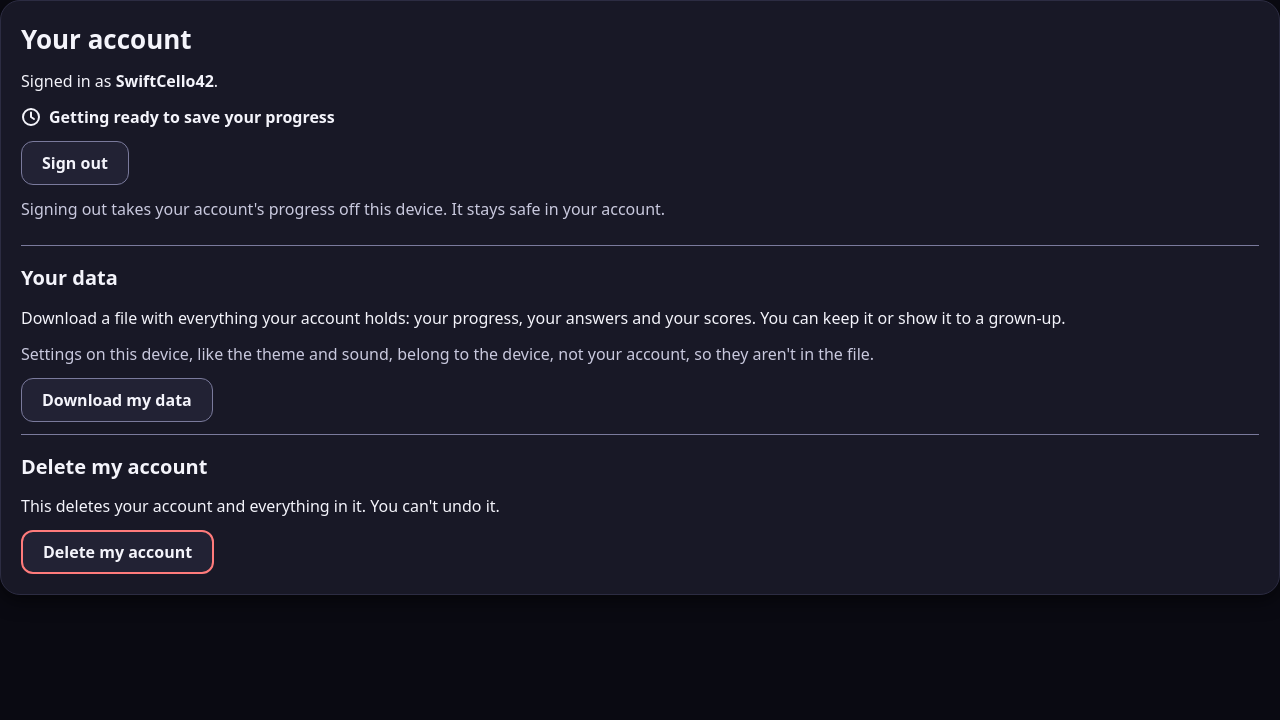
Download my data › downloads a file named by the day, and announces it
Check: the text "SwiftCello42" is shown, box [116,70,214,92]
Click the button "Download my data".
click(117, 400)  # box [21,378,213,422]
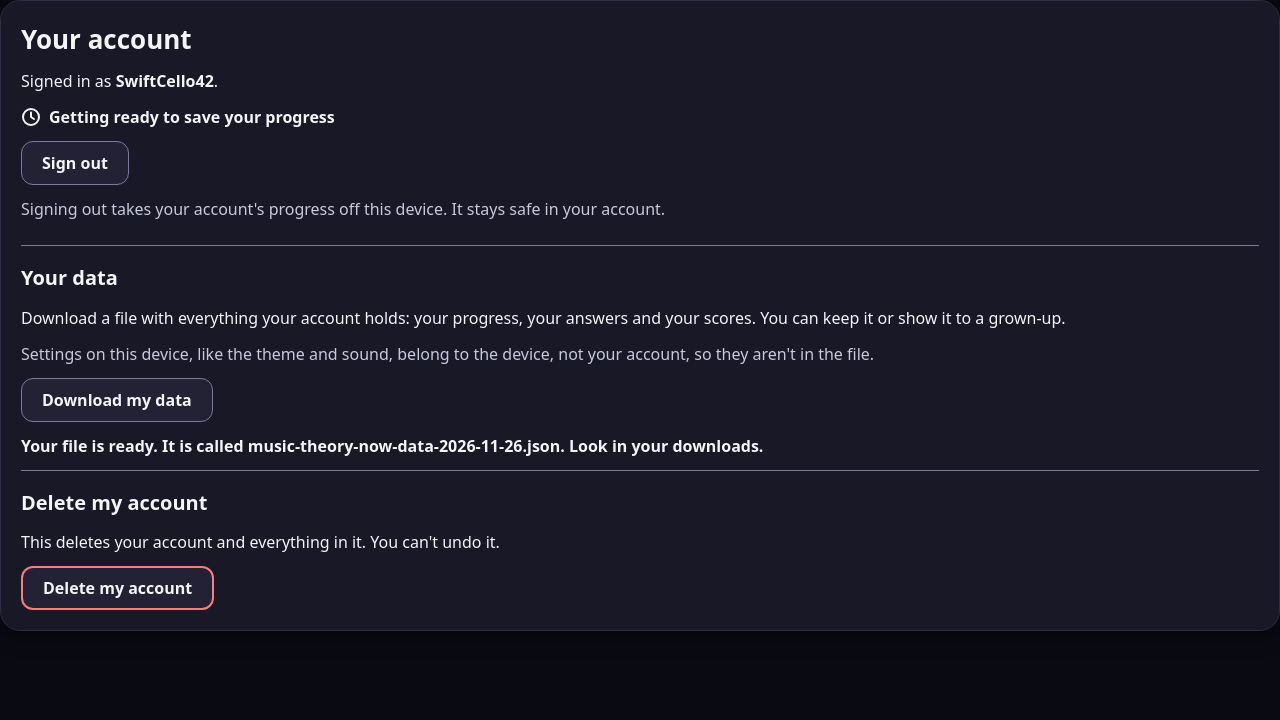
Check: the text with test id "account-code-name" reads "SwiftCello42", box [116,70,214,92]
Check: the message with test id "download-done" is shown, box [21,434,763,456]
